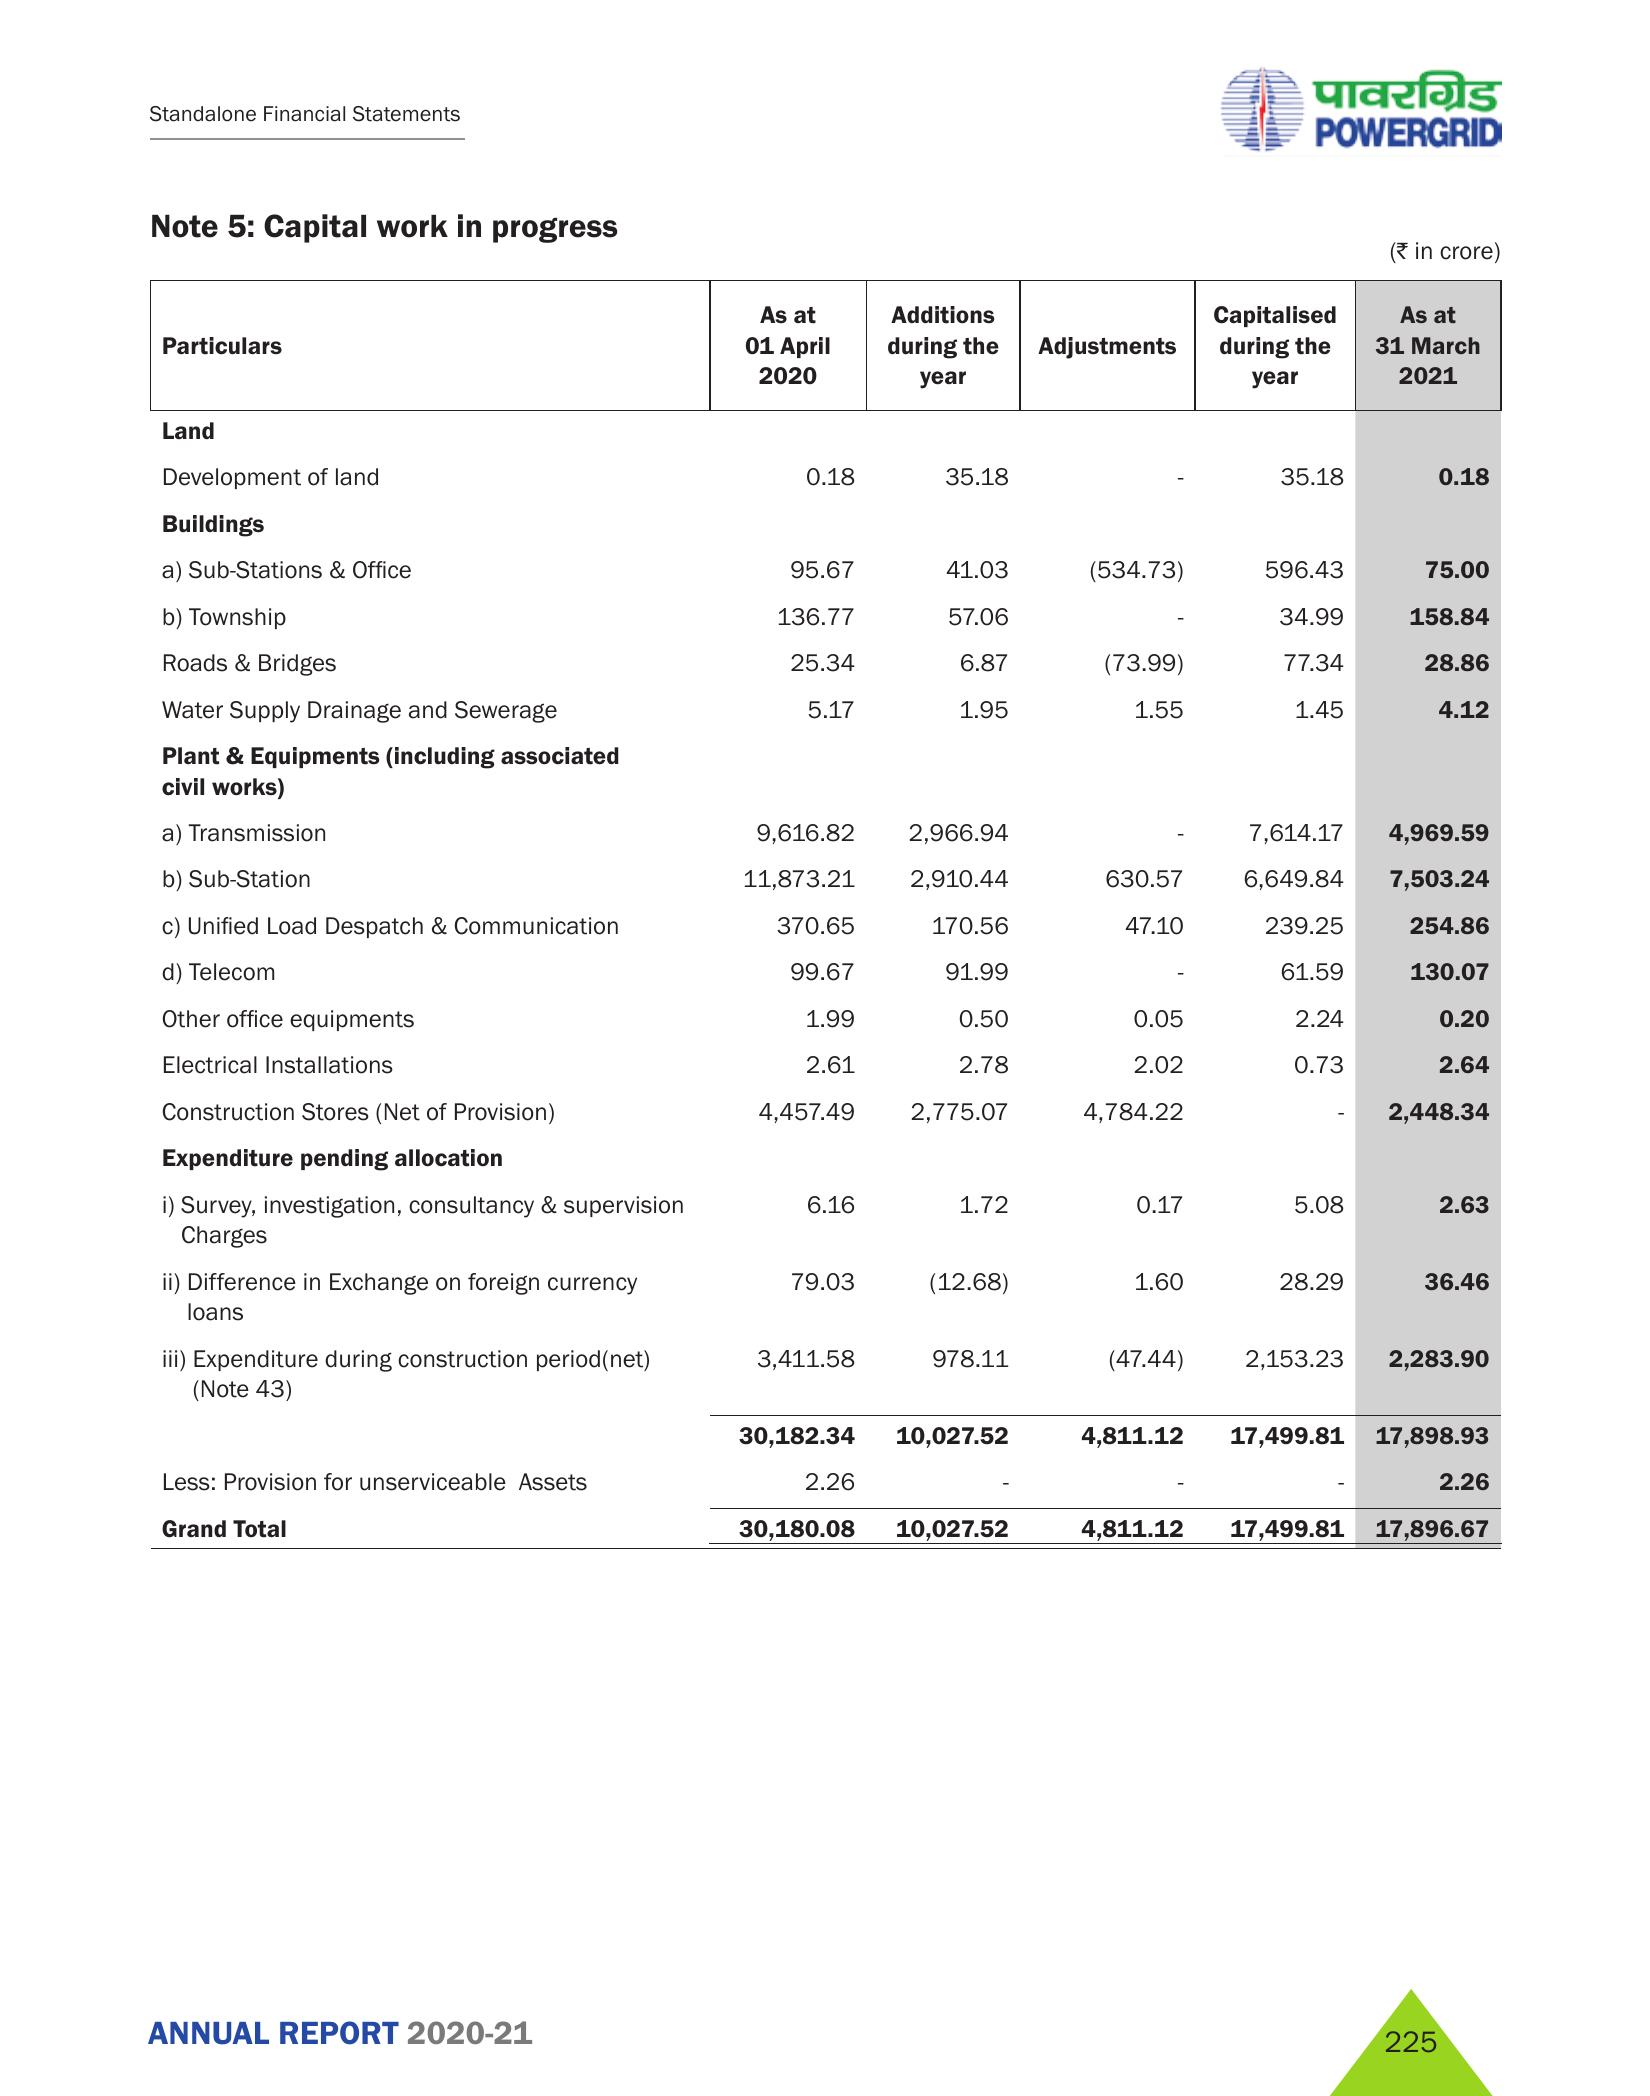Footer: (0, 1965, 1650, 2096)
Header: (0, 0, 1650, 175)
Table: (117, 242, 1521, 1569)
